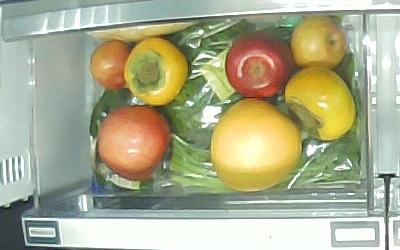apple: (98, 105, 173, 180), (225, 32, 294, 98)
grapefruit: (210, 97, 301, 191)
persimmon: (285, 67, 356, 141), (124, 37, 188, 106)
prune: (290, 15, 346, 70), (90, 40, 134, 90)
